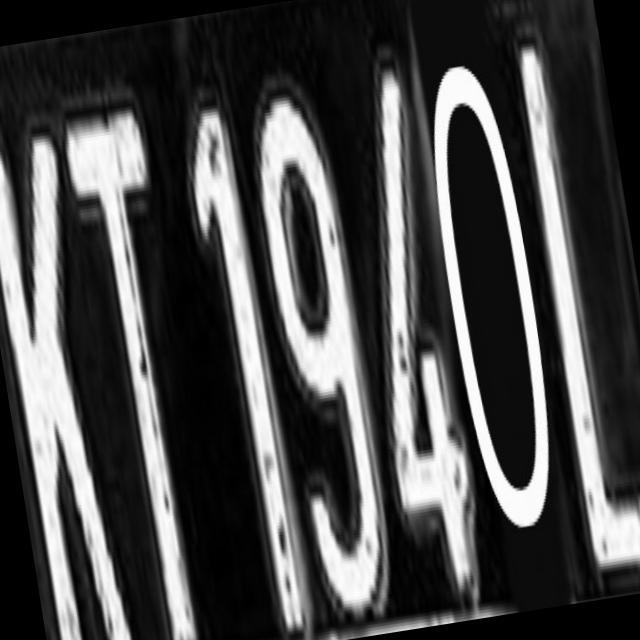0: (410, 42, 575, 546)
1: (169, 89, 316, 640)
4: (320, 56, 497, 630)
9: (235, 68, 400, 624)
K: (0, 105, 129, 640)
L: (498, 24, 640, 599)
T: (75, 111, 191, 640)
